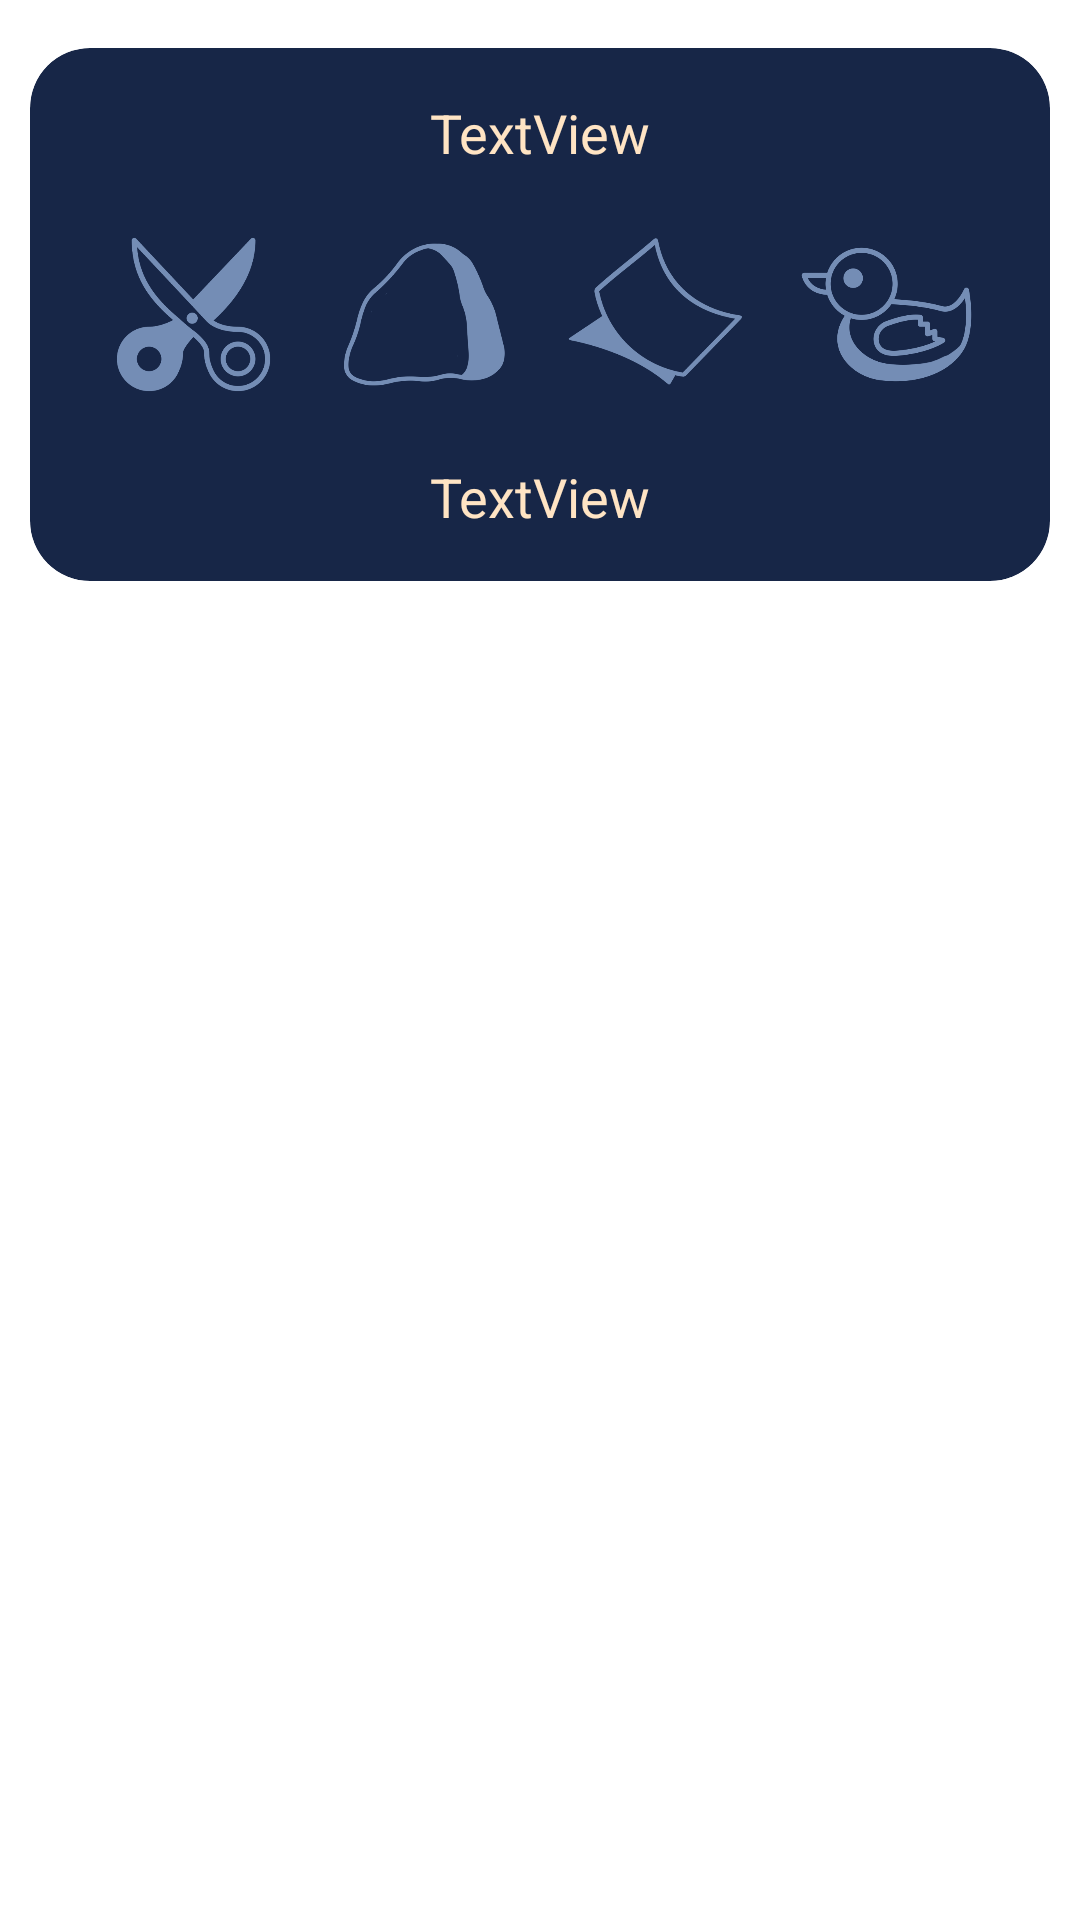

Screen size 1080 x 1920. Icon name, then its box in pixels as (x1, y1, x2, y2):
duck: (802, 248, 971, 381)
paper: (569, 238, 742, 385)
scissors: (117, 238, 270, 391)
stone: (344, 243, 505, 386)
